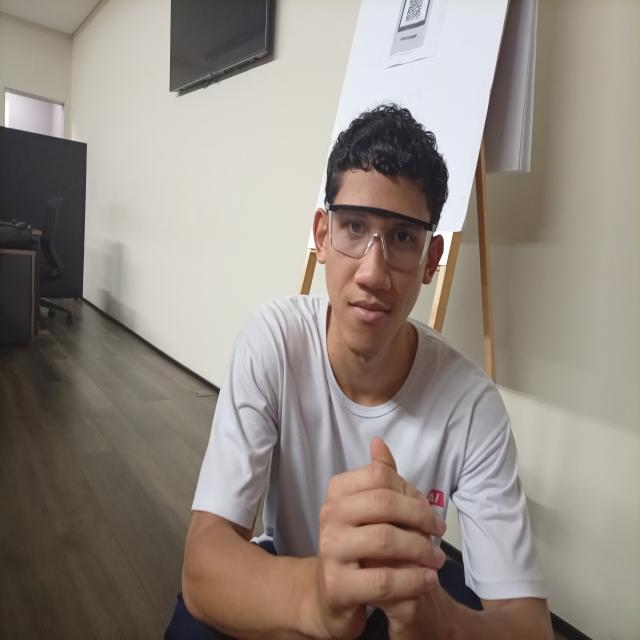oculos-epi: (327, 204, 434, 268)
